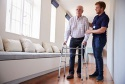male: (94, 1, 106, 17), (73, 4, 85, 18)
